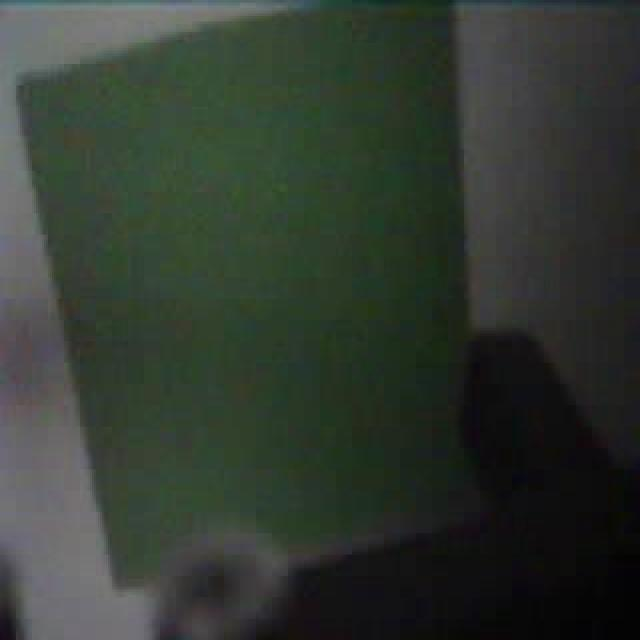green_box: (14, 0, 472, 592)
